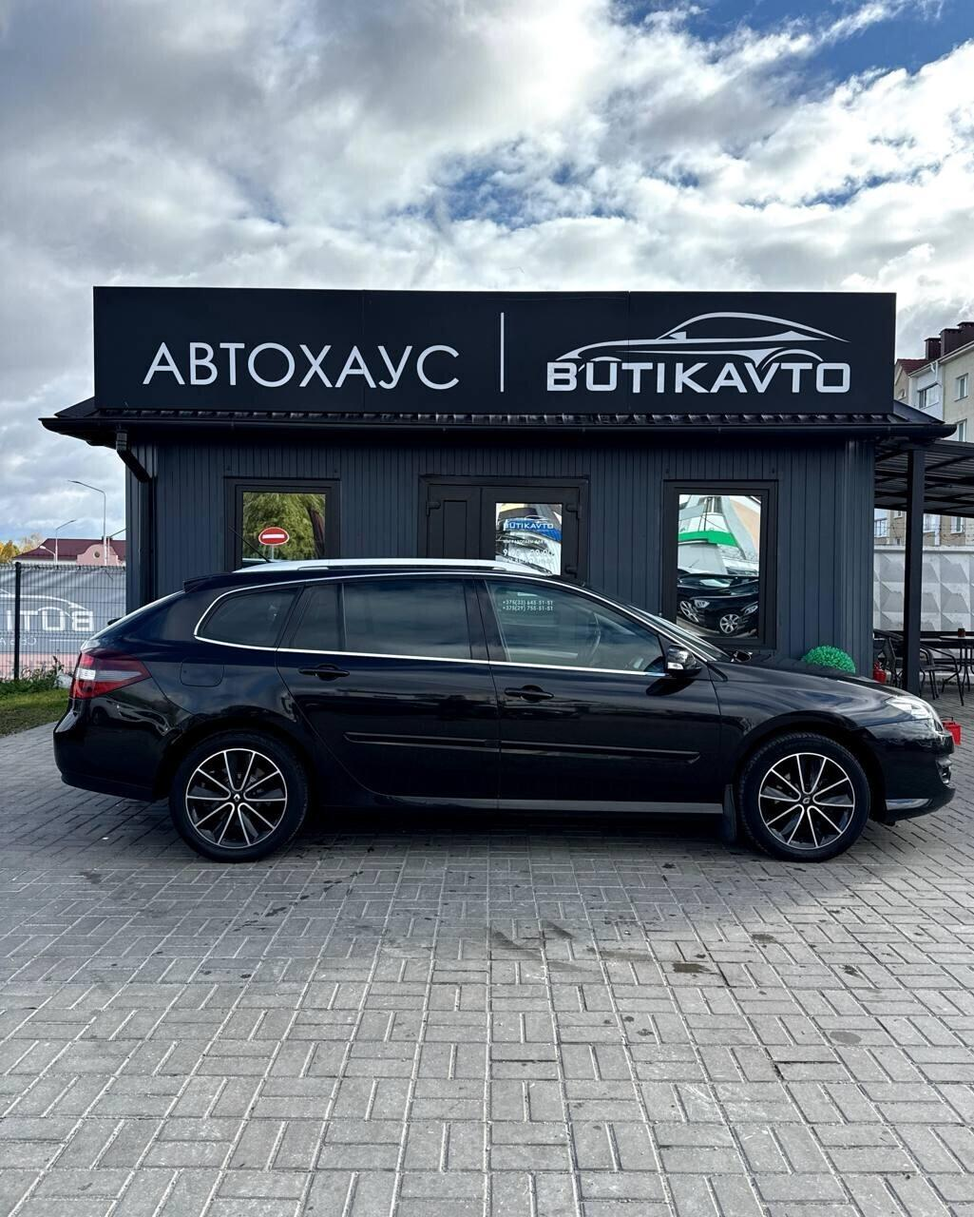Laguna_2010-2015: (52, 540, 958, 864)
